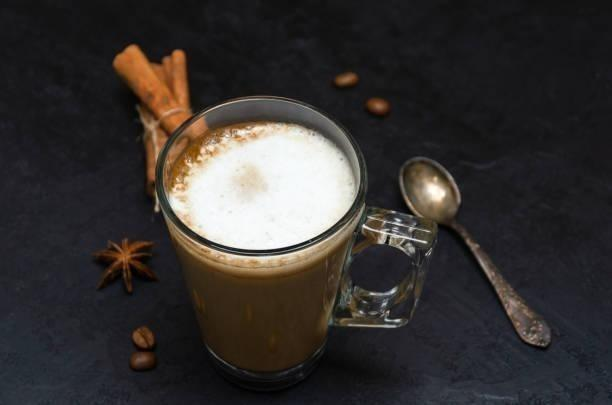glass-mug: (153, 93, 439, 395)
